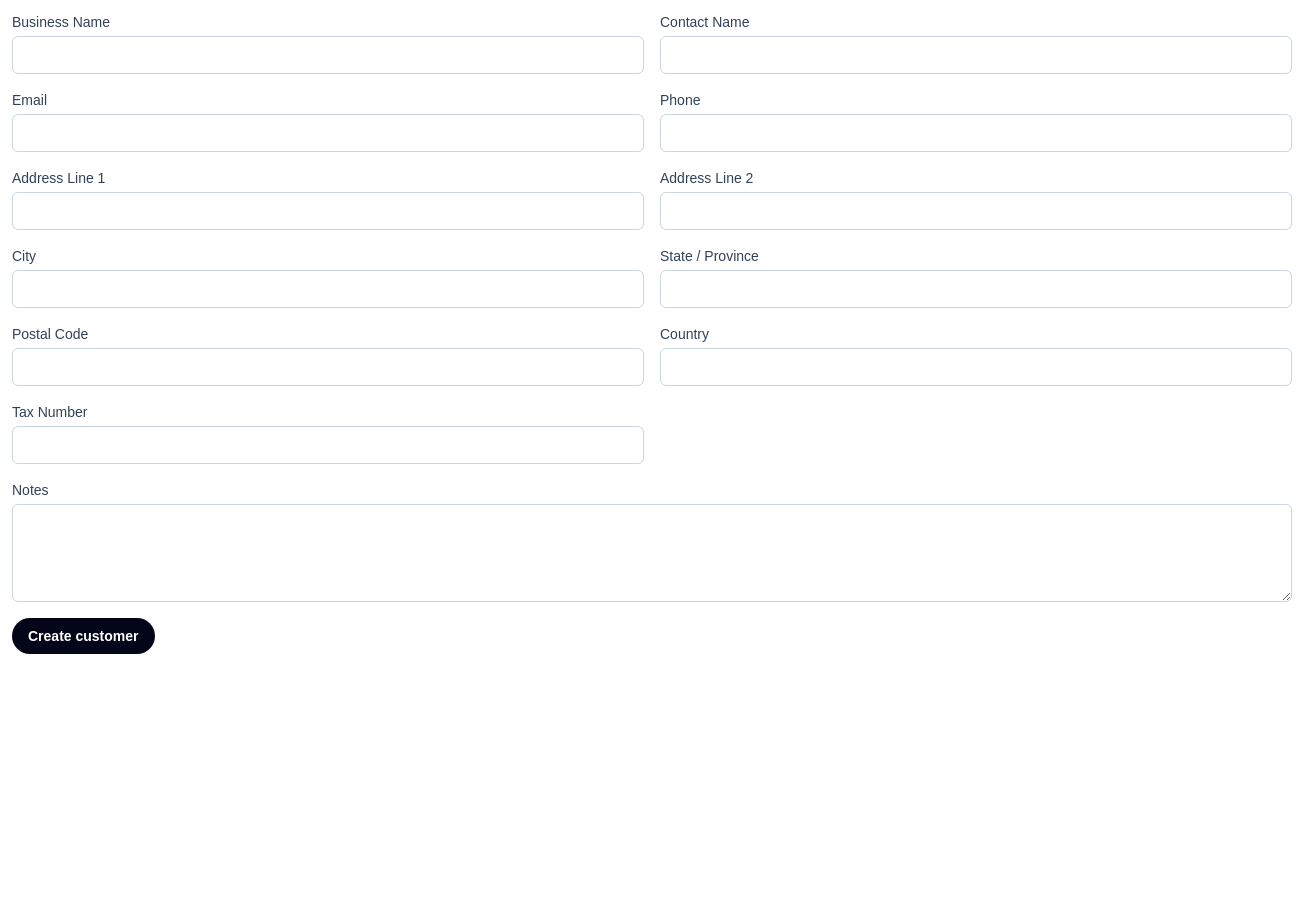
Test case: CreateCustomerForm › shows the server's error message when creation fails
Type "Acme Pty Ltd" into the field labelled "Business Name" at (328, 55), box left=12, top=36, right=644, bottom=74
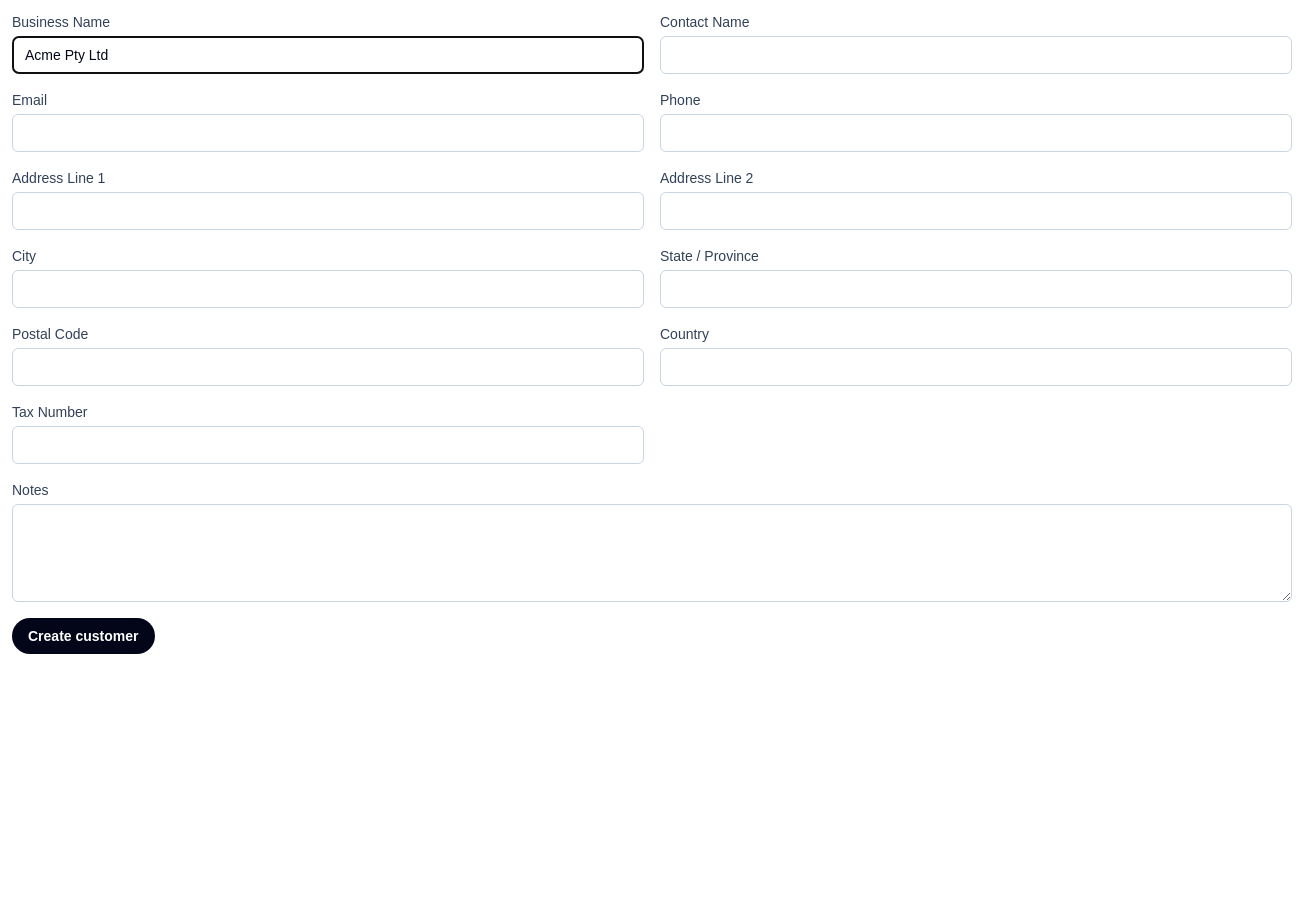
Click the button "Create customer" at (83, 636), box left=12, top=618, right=154, bottom=654
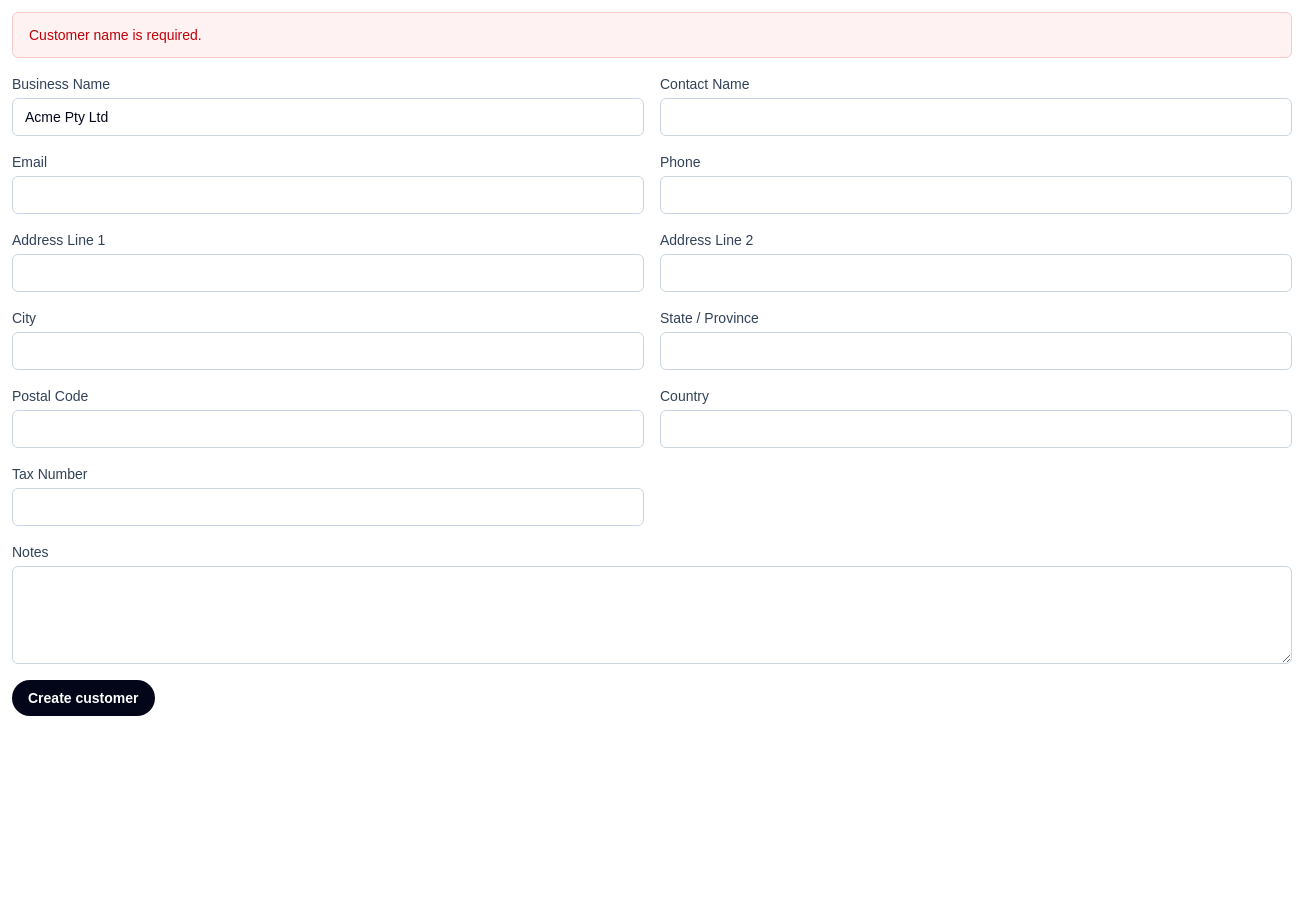
Now the message reads "Customer name is required.", box left=29, top=27, right=202, bottom=43
